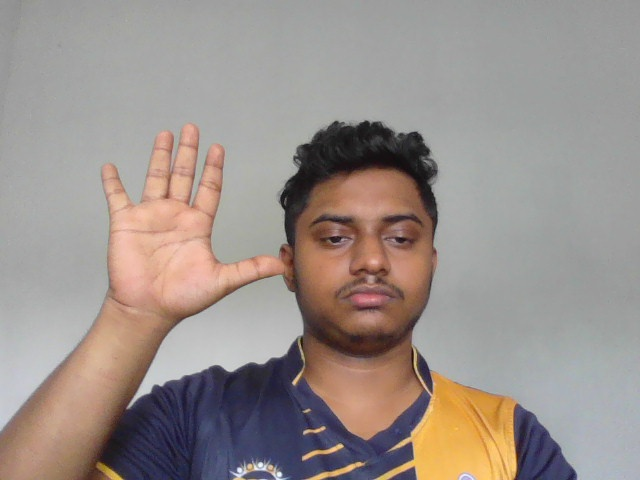Hello: (99, 120, 288, 325)
